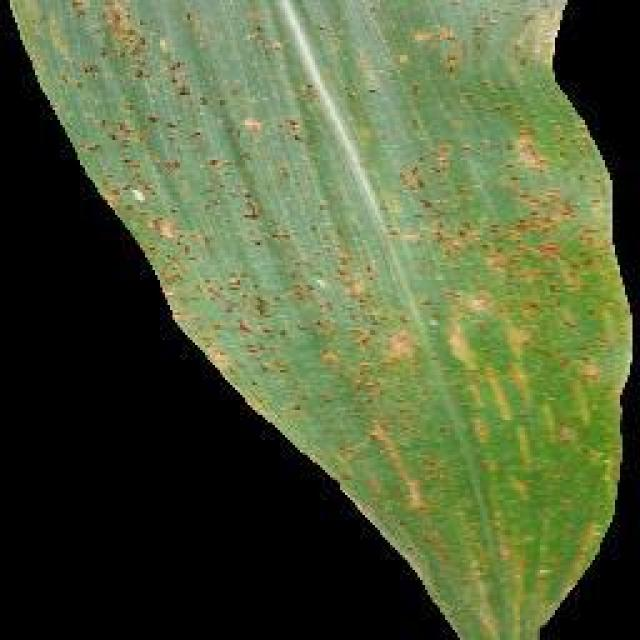Corn Common Rust: (95, 25, 525, 442)
